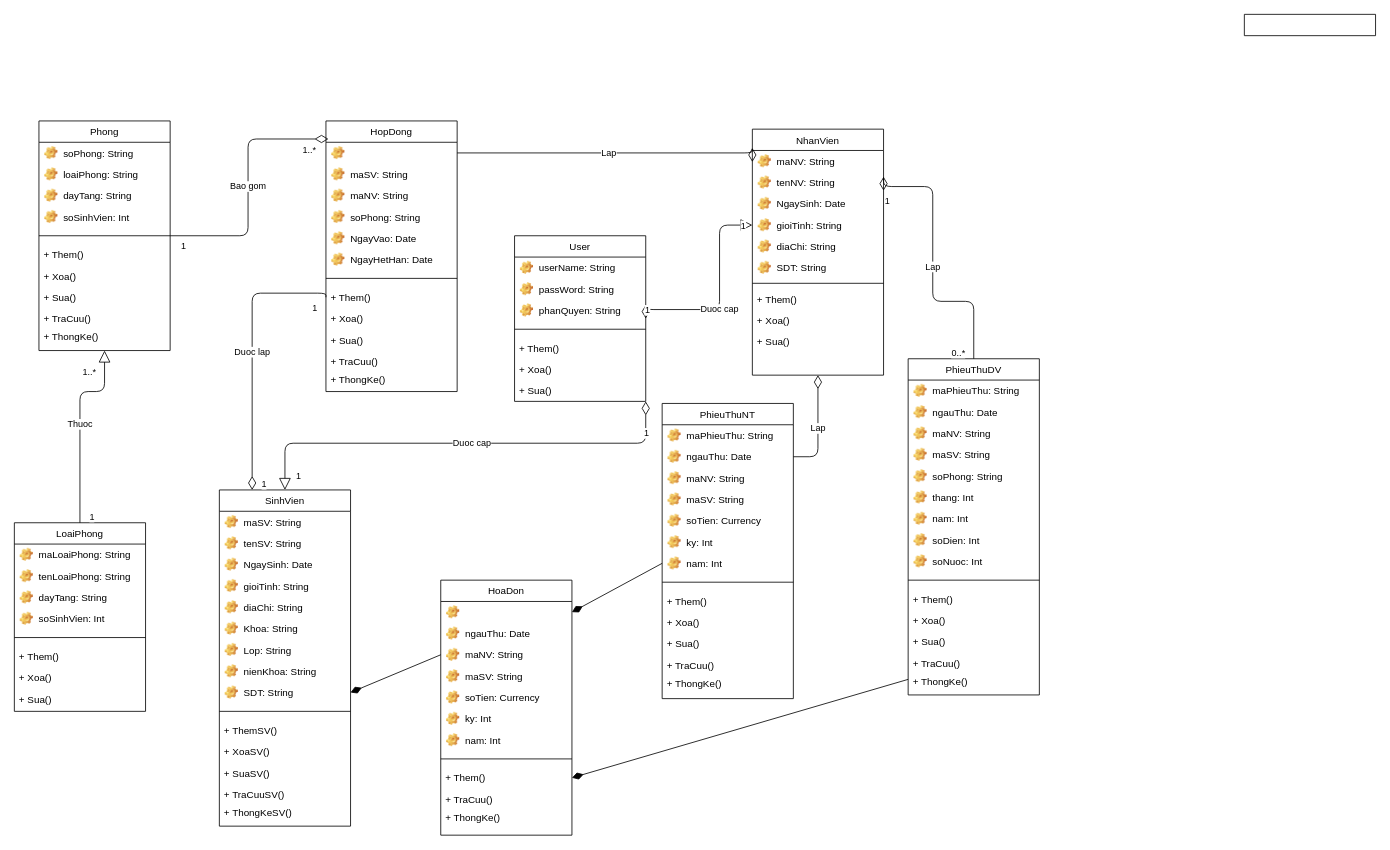
The diagram is 1390 pixels wide and 850 high, and some of its shapes have lost their labels. Each missing label, with the centre of its shape:
ChucVu: the point at 1310,25
maHoadon: String: the point at 506,611
maHopDong: String: the point at 391,152
